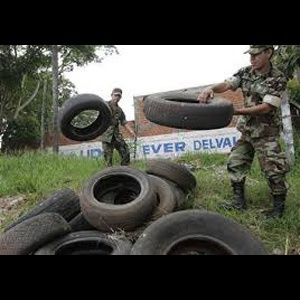tire: (130, 209, 267, 255), (78, 165, 156, 232), (104, 173, 177, 227), (143, 91, 234, 131), (1, 212, 71, 255), (56, 94, 112, 141), (30, 231, 133, 255), (145, 156, 198, 193)
